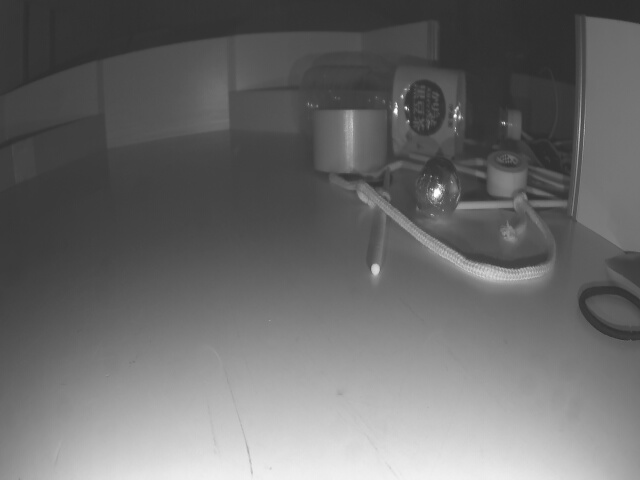Live: (417, 158, 461, 221)
Point: (0, 118, 100, 189), (232, 80, 323, 135)
